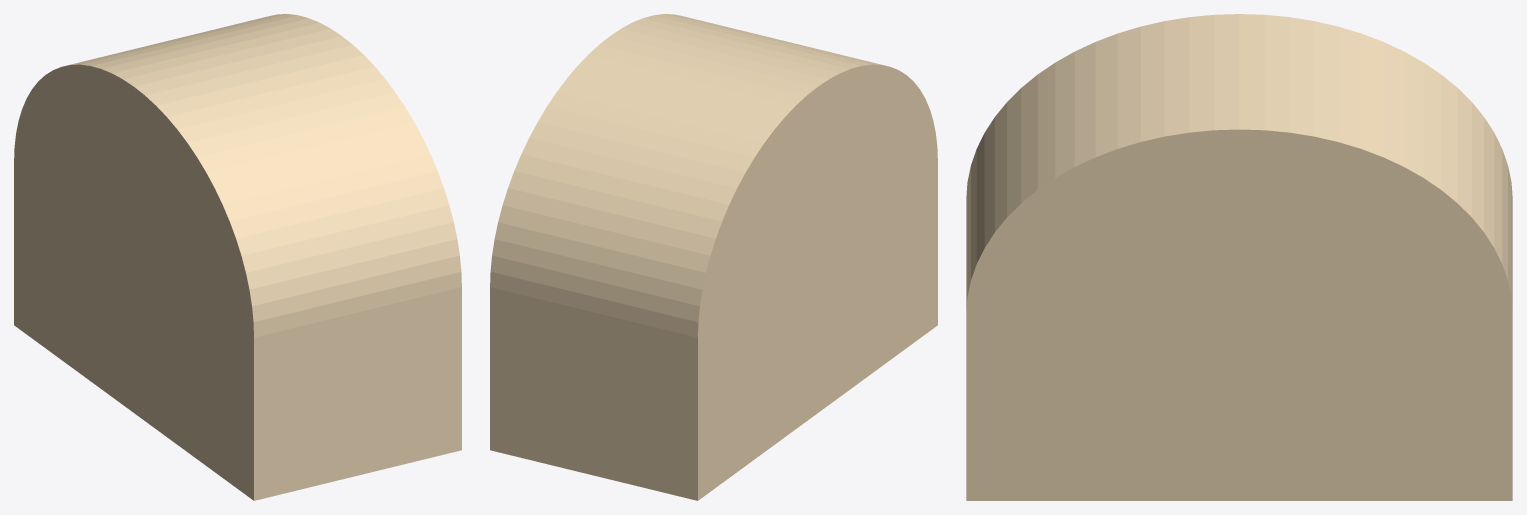
File: toys_wood block_arch.fbx
The picture shows the model from 3 angles, left to right: view 1: azimuth 30°, elevation 25°; view 2: azimuth 150°, elevation 25°; view 3: azimuth 270°, elevation 25°; orthographic projection. The views are drawn at different scales.
Visible parts, largest first — view 1: Cube.003; view 2: Cube.003; view 3: Cube.003.
Part boxes in pixels (left/top/right/bottom): Cube.003: left=14, top=14, right=461, bottom=500; Cube.003: left=490, top=14, right=937, bottom=500; Cube.003: left=966, top=14, right=1512, bottom=500.
Bounding box in the file's own units: 200 × 300 × 400.
